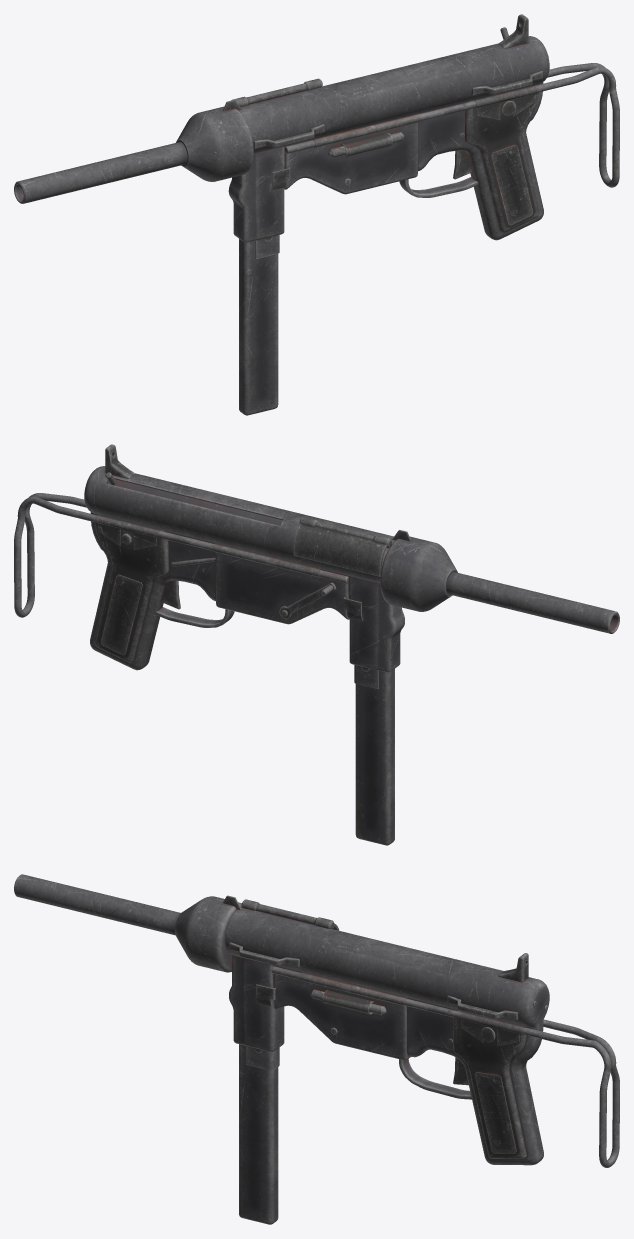
The model's file is m3-grease-gun.glb.
The picture shows the model from 3 angles, top to bottom: view 1: azimuth 30°, elevation 25°; view 2: azimuth 150°, elevation 25°; view 3: azimuth 330°, elevation 25°; orthographic projection.
Parts seen in each view (by area): view 1: m3_low, m3_low.002, m3_low.005, m3_low.001, m3_low.004, m3_low.003, m3_low.006; view 2: m3_low, m3_low.005, m3_low.002, m3_low.001, m3_low.004, m3_low.003; view 3: m3_low, m3_low.002, m3_low.005, m3_low.001, m3_low.004, m3_low.003, m3_low.006.
Part boxes in pixels (box(x1,y1,x2,y2)): m3_low: box(238, 36, 549, 240); m3_low.002: box(284, 92, 538, 232); m3_low.005: box(223, 14, 619, 259); m3_low.001: box(14, 106, 253, 203); m3_low.004: box(239, 239, 278, 415); m3_low.003: box(228, 146, 478, 242); m3_low.006: box(341, 133, 392, 156); m3_low: box(84, 466, 395, 670); m3_low.005: box(14, 444, 410, 688); m3_low.002: box(95, 522, 349, 662); m3_low.001: box(380, 536, 619, 633); m3_low.004: box(355, 669, 394, 845); m3_low.003: box(155, 576, 404, 672); m3_low: box(225, 907, 549, 1165); m3_low.002: box(274, 974, 526, 1158); m3_low.005: box(223, 895, 619, 1167); m3_low.001: box(14, 874, 241, 972); m3_low.004: box(239, 1044, 278, 1224); m3_low.003: box(229, 955, 471, 1099); m3_low.006: box(322, 990, 373, 1014).
Bounding box in the file's own units: 3.97 × 2.11 × 0.4194.
Materials: 1 (1 with a texture image).
